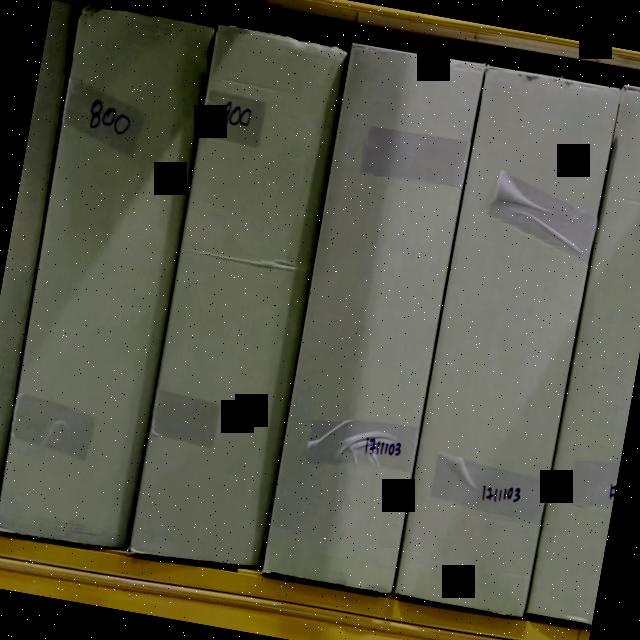box: (395, 68, 618, 614), (262, 44, 482, 592), (131, 31, 347, 569), (0, 8, 214, 544)
